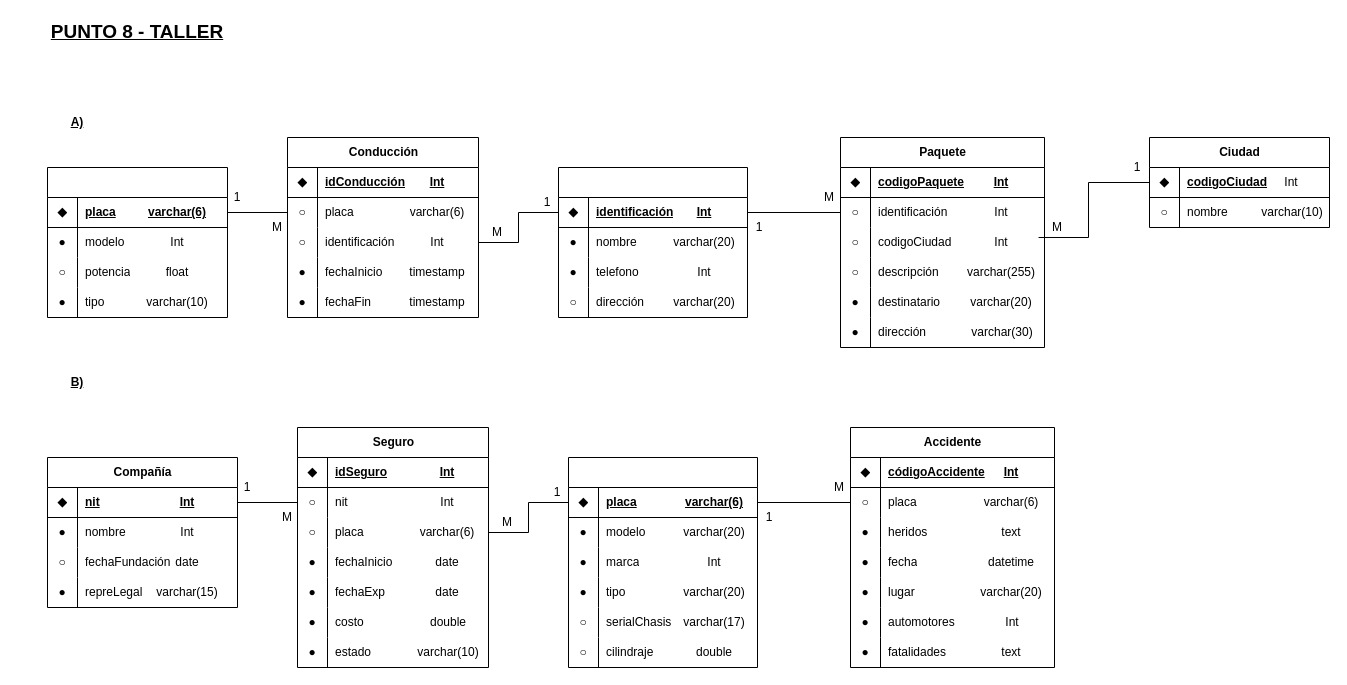
Some shapes in this 1347 by 685 pixel diagram are drawn without their labels. The box of each missing label's shape, as (x1, y1, x2, y2) in pixels:
Automóvil: (568, 456, 758, 668)
Camionero: (558, 166, 748, 318)
Camión: (46, 166, 228, 318)
